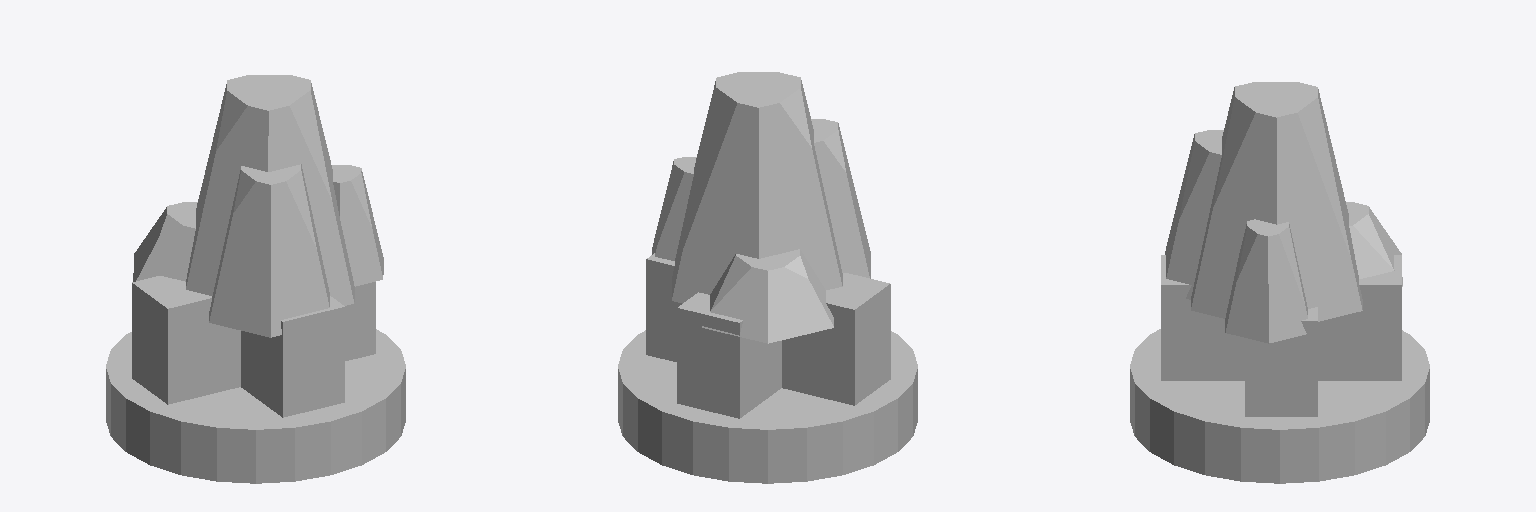
Rendered from gems_amethyst_5.obj.
The picture shows the model from 3 angles: view 1: azimuth 30°, elevation 25°; view 2: azimuth 150°, elevation 25°; view 3: azimuth 270°, elevation 25°; orthographic projection.
Visible parts, largest first — view 1: mergedBlocks; view 2: mergedBlocks; view 3: mergedBlocks.
Part boxes in pixels (left/top/right/bottom): mergedBlocks: left=106, top=75, right=405, bottom=483; mergedBlocks: left=618, top=72, right=917, bottom=483; mergedBlocks: left=1130, top=82, right=1429, bottom=483.
Bounding box in the file's own units: 1 × 1.21 × 1.